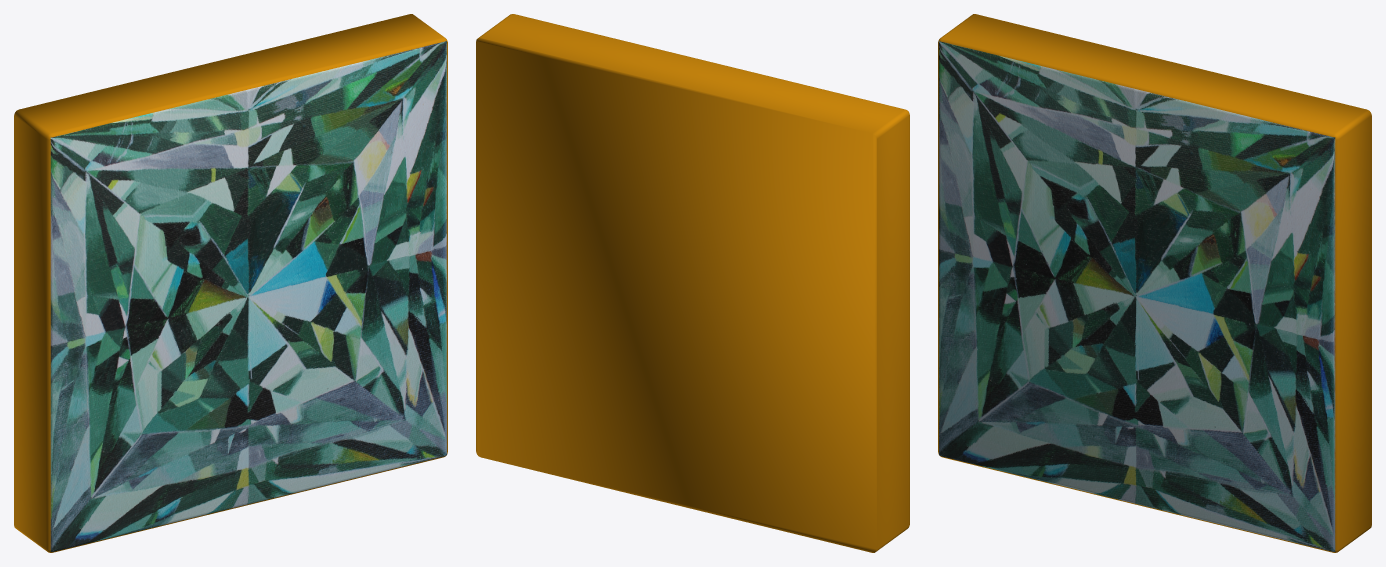
Rendered from sophia.glb.
The picture shows the model from 3 angles, left to right: view 1: azimuth 30°, elevation 25°; view 2: azimuth 150°, elevation 25°; view 3: azimuth 330°, elevation 25°; orthographic projection.
Visible parts, largest first — view 1: sophia; view 2: sophia; view 3: sophia.
Boxes of the visible parts, x1,y1,x2,y2 form: sophia: (14, 14, 447, 552); sophia: (476, 14, 909, 552); sophia: (938, 14, 1371, 552).
Bounding box in the file's own units: 0.2 × 0.2 × 0.03.
Materials: 2 (1 with a texture image).
